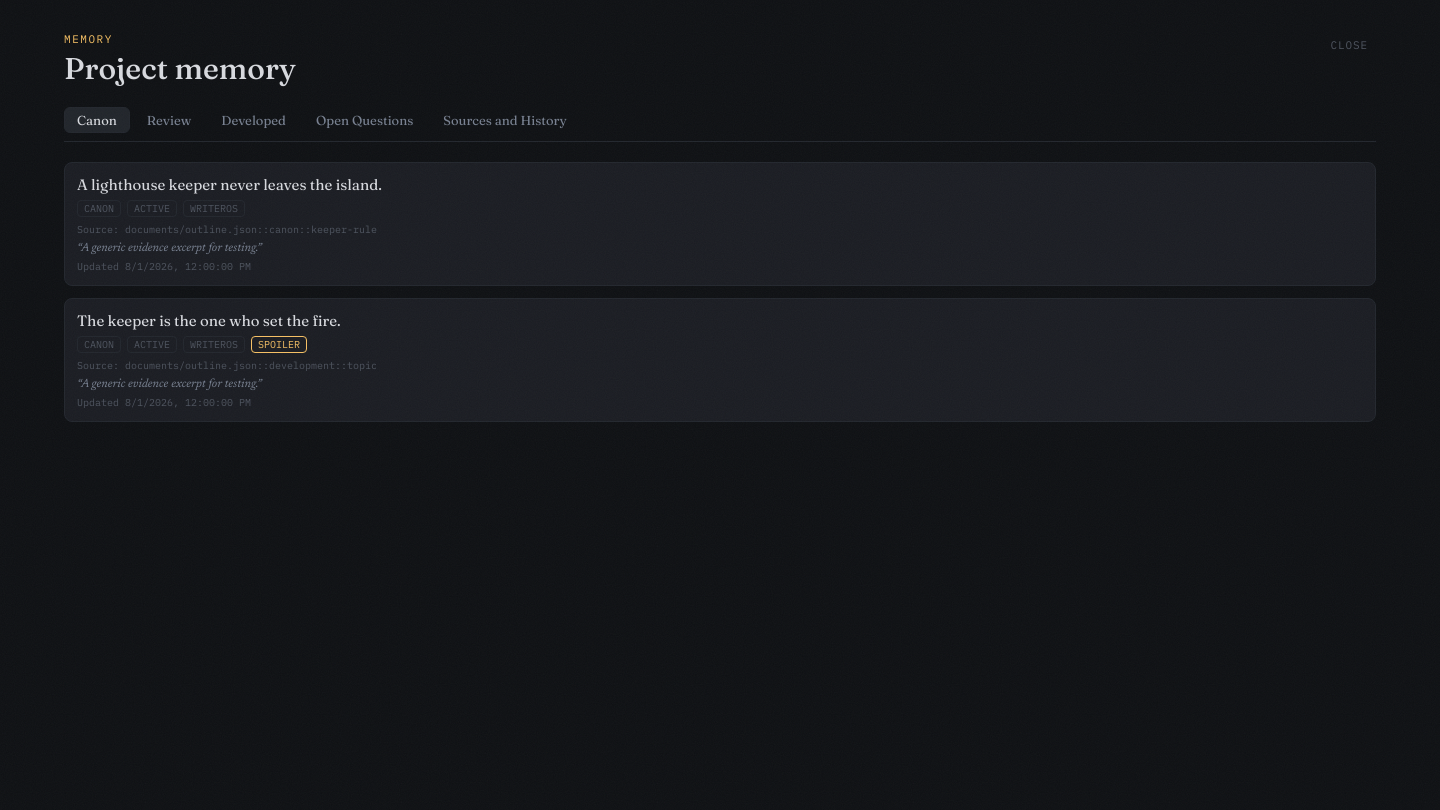
Test case: MemorySurface › renders views from a successful snapshot even when the analysis-queue fetch fails, with a section-level retry
Expected: the text "A lighthouse keeper never leaves the island." is shown, [77,175,382,194]
Click the tab "Review". click: (169, 120)
box: [134,107,204,133]
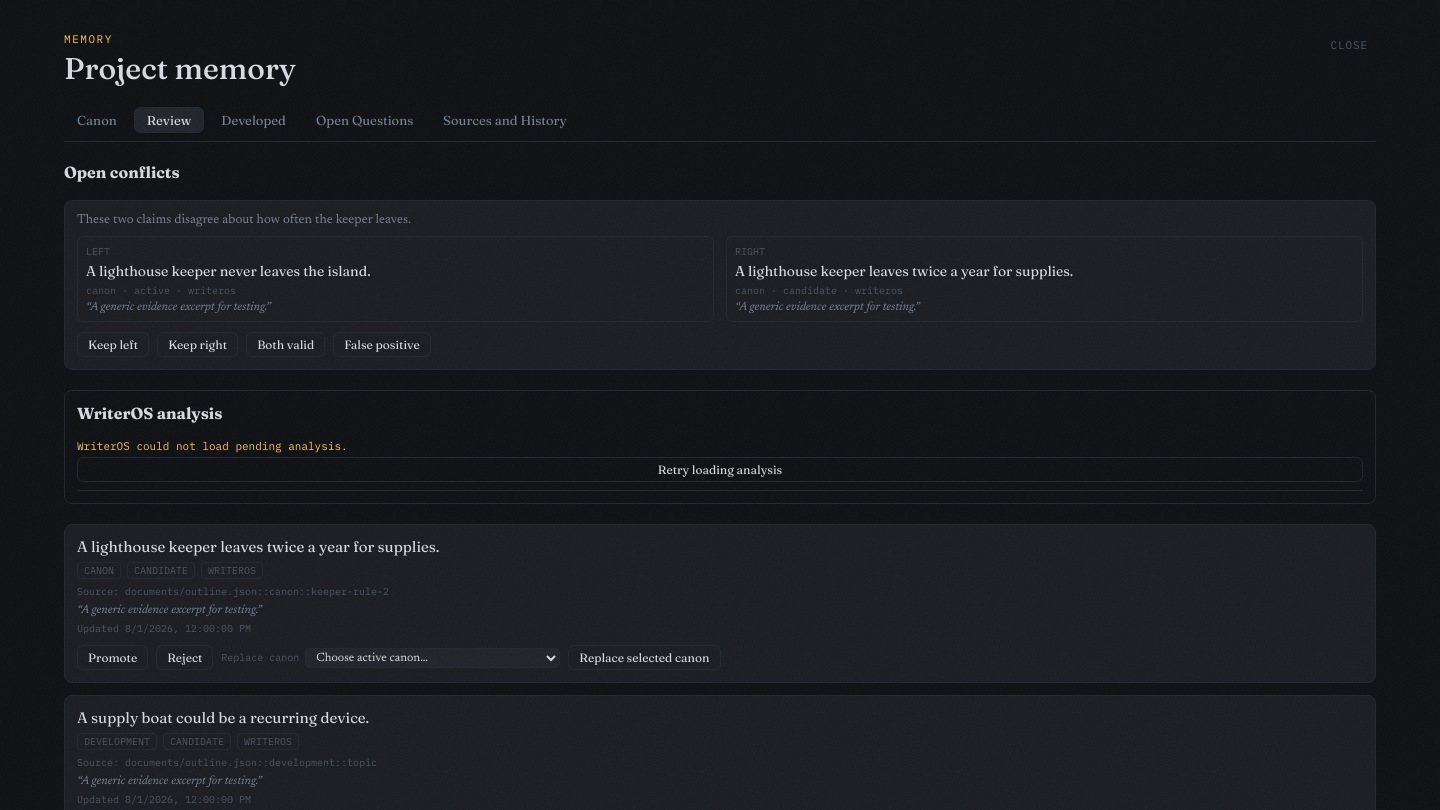
Expected: the text "WriterOS could not load pending analysis." is shown, [77,439,348,453]
Click the button "Retry loading analysis". click: (720, 470)
box: [77,457,1363,482]
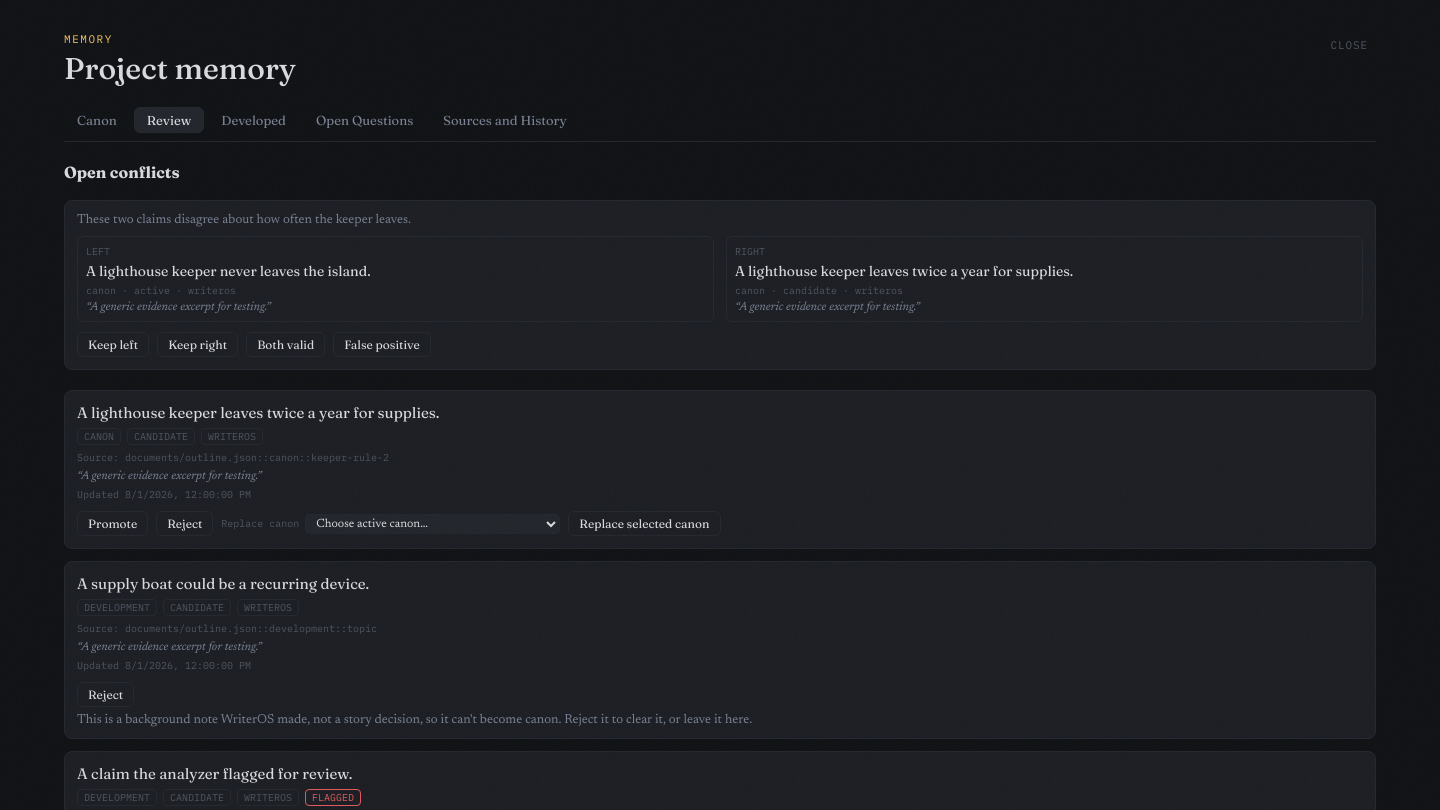
Expected: the text "WriterOS could not load pending analysis." is gone
